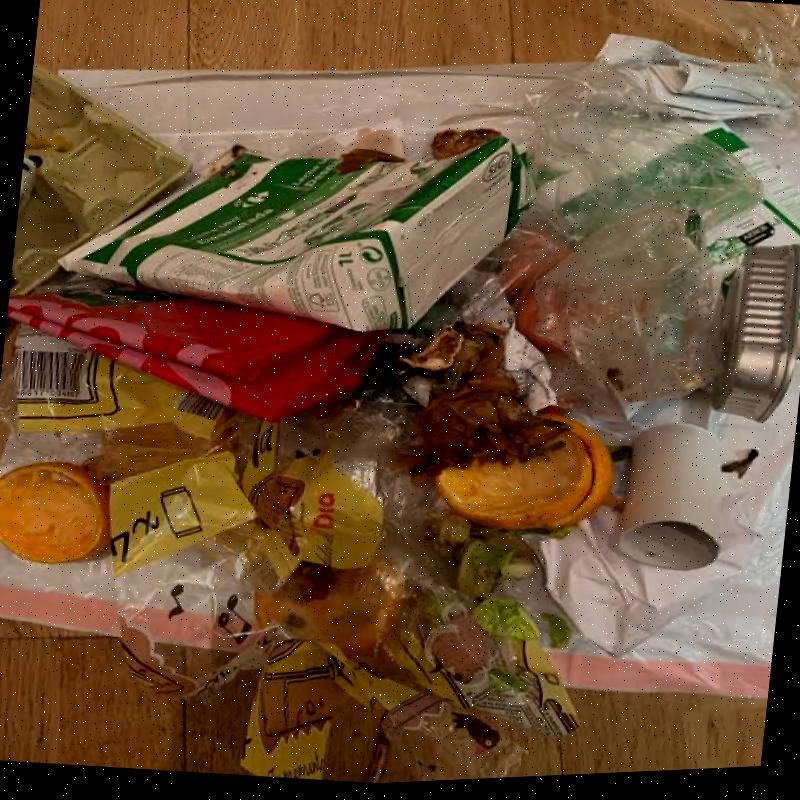aluminum: (711, 244, 800, 424)
fruit peels: (435, 415, 613, 529), (0, 461, 111, 564)
uht carton: (55, 137, 534, 331)
